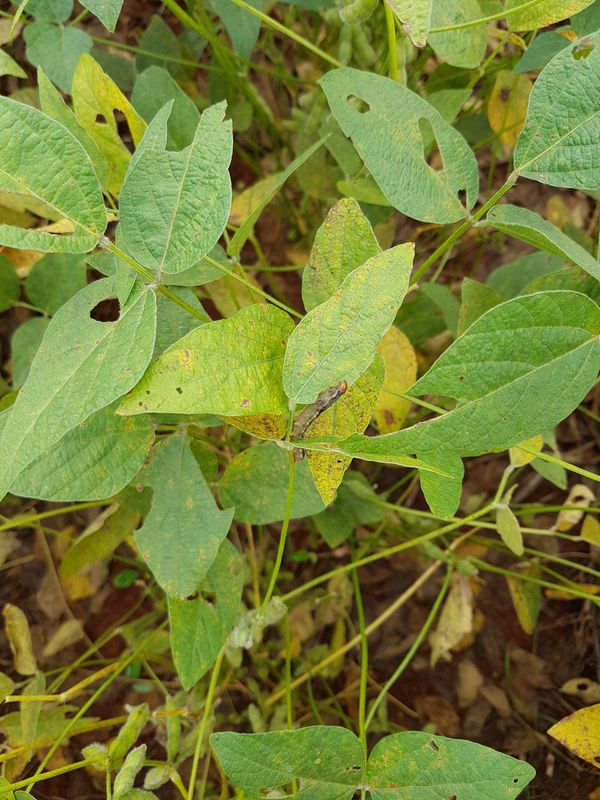Spodoptera_albula: (268, 373, 367, 469)
